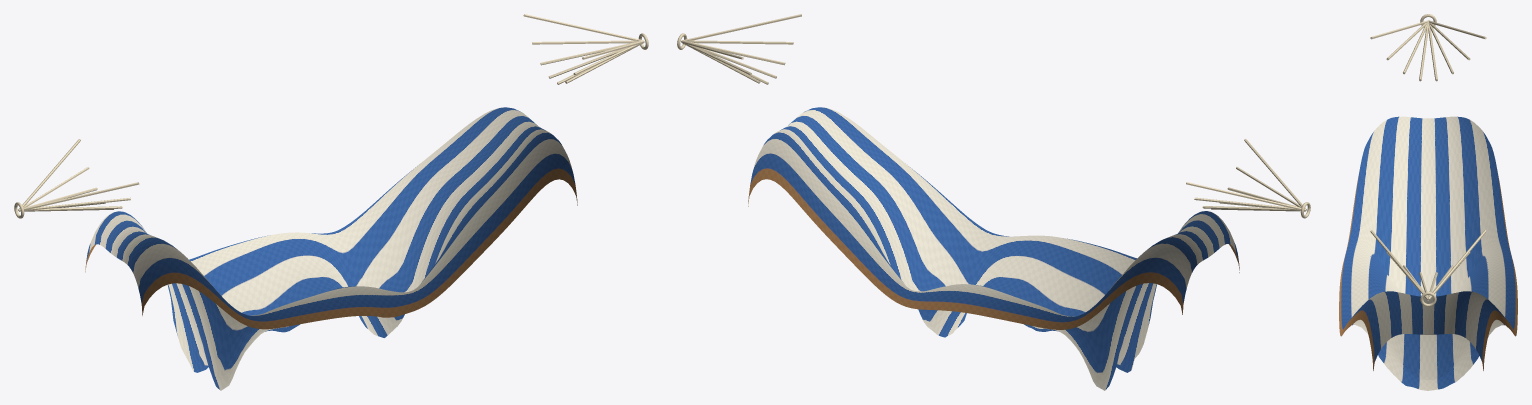
The model's file is hammock_v25.glb.
3 views of the same model, side by side, from view 1: azimuth 30°, elevation 25°; view 2: azimuth 150°, elevation 25°; view 3: azimuth 270°, elevation 25° (orthographic). The views are drawn at different scales.
Parts seen in each view (by area): view 1: hammock_cloth, hammock_ropes; view 2: hammock_cloth, hammock_ropes; view 3: hammock_cloth, hammock_ropes.
Part boxes in pixels (x1=…): hammock_cloth: x1=85, y1=107, x2=577, y2=390; hammock_ropes: x1=14, y1=14, x2=648, y2=218; hammock_cloth: x1=748, y1=107, x2=1239, y2=390; hammock_ropes: x1=677, y1=14, x2=1310, y2=218; hammock_cloth: x1=1339, y1=116, x2=1517, y2=390; hammock_ropes: x1=1370, y1=14, x2=1486, y2=306.
Size of the model in its own units: 3.67 by 1.46 by 0.9407.
2 materials, 1 textured.
